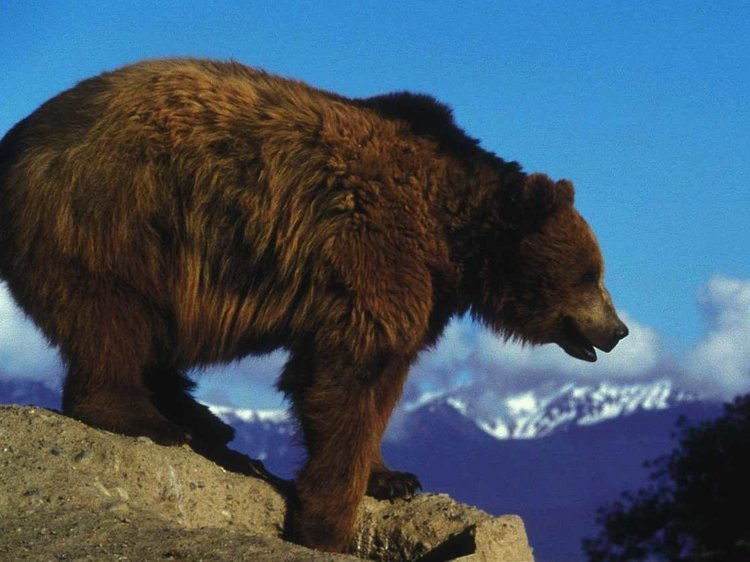bear: (517, 163, 635, 367)
